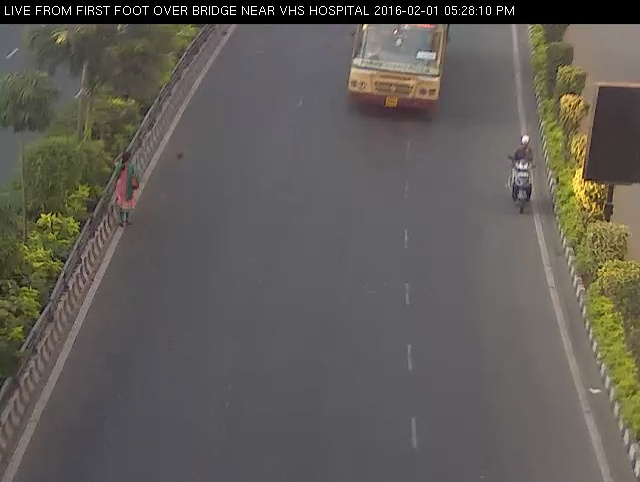Bus: (340, 21, 459, 129)
Person: (503, 127, 540, 217), (111, 149, 142, 235)
